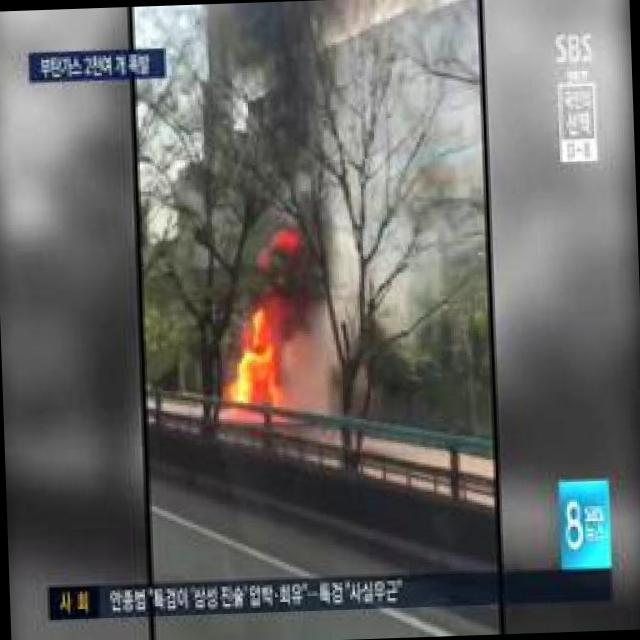Fire: (215, 294, 294, 410)
Smoke: (278, 8, 503, 404)
